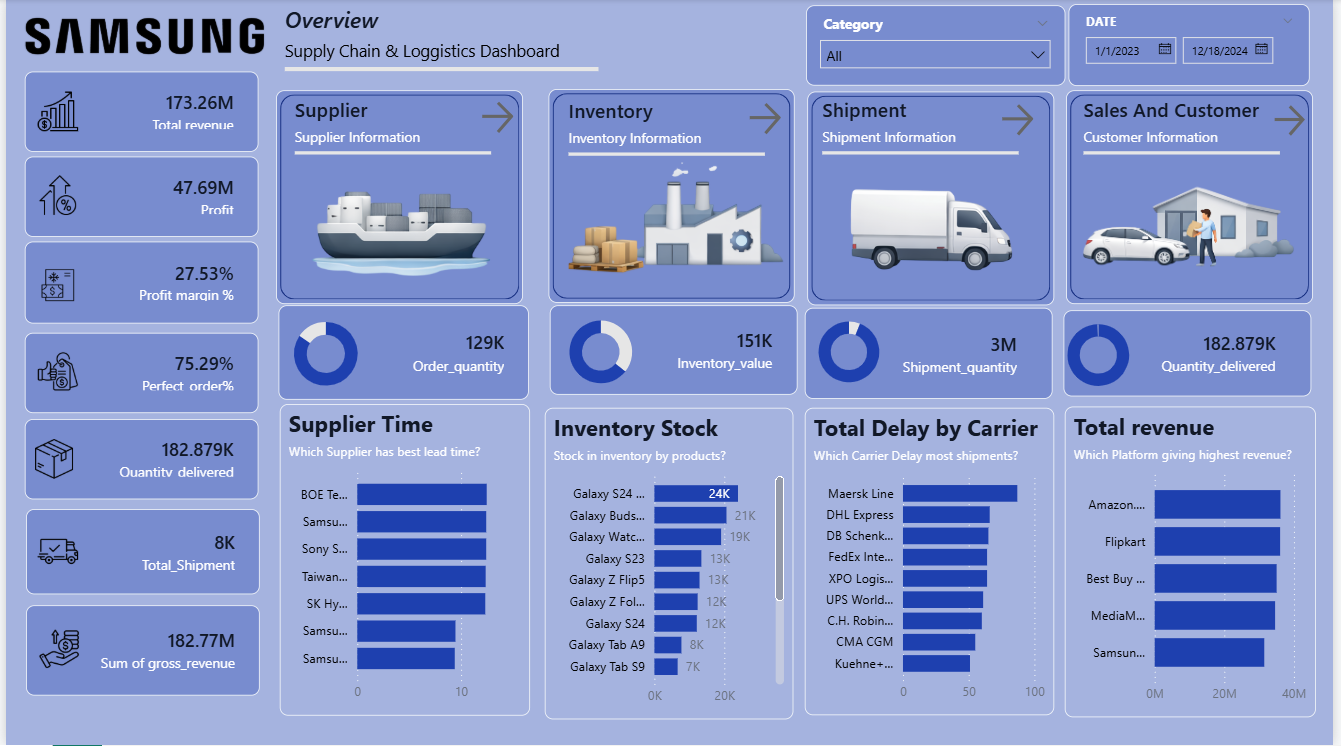

What the dashboard file says about the page in this screenshot:
{"tool":"powerbi","page":{"name":"Page 1","canvas":[1280,720],"ordinal":0},"visuals":[{"type":"shape","box":[260.7,87.8,238.8,206],"z":0},{"type":"actionButton","box":[955.7,96.9,42.8,40.4],"z":0,"group":"g4"},{"type":"shape","box":[1023.5,88,238.5,206],"z":1000},{"type":"actionButton","box":[1218.6,98.2,42.8,39.1],"z":1000,"group":"g4"},{"type":"shape","box":[524,86.5,237.5,206.5],"z":2000},{"type":"shape","title":"Shipment","box":[788.2,94.5,189.5,56.3],"z":2000,"group":"g4"},{"type":"shape","title":"Sales And Customer","box":[1040.1,94.5,189.5,56.3],"z":3000,"group":"g4"},{"type":"image","box":[1030.3,153.2,231.6,126.7],"z":3000},{"type":"cardVisual","fields":{"Data":["Folder.total revenue"]},"box":[18.6,69.9,225.3,77.7],"z":4000},{"type":"group","id":"g1","title":"Group 6","box":[278.8,94.5,482.5,57.5],"z":4000,"group":"g4"},{"type":"shape","box":[772.8,89.3,238.5,206],"z":5000},{"type":"actionButton","box":[453.7,94.5,48.9,40.4],"z":5000,"group":"g3"},{"type":"actionButton","box":[712.4,95.7,48.9,40.4],"z":6000,"group":"g1"},{"type":"image","box":[276.3,159.3,201.5,114.6],"z":6000},{"type":"cardVisual","fields":{"Data":["Folder.Profit"]},"box":[18.6,152.3,225.3,77.7],"z":7000},{"type":"image","box":[492.2,132.7,293.2,149.6],"z":8000},{"type":"shape","title":"Overview","box":[269,4.8,302.8,65.1],"z":9000,"group":"g2"},{"type":"shape","title":"Supplier","box":[278.8,94.5,189.5,56.3],"z":9000,"group":"g3"},{"type":"image","box":[795,159.3,191.8,113.4],"z":9000},{"type":"shape","title":"Inventory","box":[543.6,95.7,189.5,56.3],"z":10000,"group":"g1"},{"type":"cardVisual","fields":{"Data":["Folder.Profit margin %"]},"box":[18.6,234.6,225.3,79.2],"z":10000},{"type":"cardVisual","fields":{"Data":["Folder.Perfect_order%"]},"box":[18.6,321.6,225.3,77.7],"z":11000},{"type":"group","id":"g2","title":"Group 5","box":[269,4.8,302.8,65.1],"z":12000},{"type":"group","id":"g3","title":"Group 5","box":[278.8,94.5,223.8,56.3],"z":12001,"group":"g1"},{"type":"group","id":"g4","title":"Group 8","box":[278.8,94.5,982.6,57.5],"z":12004,"group":"g5"},{"type":"cardVisual","fields":{"Data":["Folder.Quantity_delivered"]},"box":[18.6,405.5,225.3,77.7],"z":13000},{"type":"group","id":"g5","title":"Group 7","box":[278.8,94.5,982.6,57.5],"z":14000},{"type":"cardVisual","fields":{"Data":["Folder.Total_Shipment"]},"box":[19.3,492.2,225.6,82],"z":15000},{"type":"image","box":[0,0,257,70],"z":16000},{"type":"cardVisual","fields":{"Data":["Sum(fact_sales.gross_revenue)"]},"box":[19.3,585.1,225.6,86.9],"z":17000},{"type":"cardVisual","fields":{"Data":["Folder.Order_qty"]},"box":[263,295.6,241.3,91],"z":18000,"group":"g6"},{"type":"clusteredBarChart","title":"Supplier Time","fields":{"Category":["dim_supplier.supplier_name"],"Y":["Folder.Avg_lead_time"]},"box":[264.2,390.9,241.3,300.4],"z":18000},{"type":"cardVisual","fields":{"Data":["Folder.inventory_value"]},"box":[524.8,295.6,238.9,86.5],"z":19000,"group":"g7"},{"type":"clusteredBarChart","title":"Inventory Stock","fields":{"Category":["dim_product.product_name"],"Y":["Folder.Inventory_value"]},"box":[520,394.5,240.1,300.4],"z":19000},{"type":"cardVisual","fields":{"Data":["Folder.Shipment_quantity"]},"box":[771.1,298,238.9,88.1],"z":20000,"group":"g8"},{"type":"clusteredBarChart","title":"Total Delay by Carrier","fields":{"Category":["fact_shipment.carrier"],"Y":["Folder.Total_Delay"]},"box":[770.7,394.7,240.8,296.8],"z":20000},{"type":"cardVisual","fields":{"Data":["Folder.Total_sales_delivered"]},"box":[1021.3,300.9,238.9,82.9],"z":21000,"group":"g9"},{"type":"clusteredBarChart","title":"Total revenue ","fields":{"Category":["dim_customer.customer_name"],"Y":["Folder.Total revenue"]},"box":[1022.4,393.1,242.4,299.9],"z":21000},{"type":"group","id":"g6","title":"Group 1","box":[263,295.6,241.3,92.2],"z":22000},{"type":"group","id":"g7","title":"Group 2","box":[524.8,295.6,238.9,88.6],"z":23000},{"type":"group","id":"g8","title":"Group 3","box":[766,298,243.9,88.1],"z":24000},{"type":"group","id":"g9","title":"Group 4","box":[1011.3,300.9,248.8,85.7],"z":25000},{"type":"image","box":[7.4,89.3,85.7,38.6],"z":26000},{"type":"donutChart","fields":{"Y":["Folder.Safty_stock","Folder.Inventory_value"]},"box":[529.9,298.5,89.3,85.7],"z":26000,"group":"g7"},{"type":"image","box":[7.4,170.1,85.7,38.6],"z":27000},{"type":"donutChart","fields":{"Y":["Folder.Order_qty","Folder.defected"]},"box":[265.4,298.5,86.9,89.3],"z":27000,"group":"g6"},{"type":"image","box":[7.4,257,85.7,38.6],"z":28000},{"type":"donutChart","fields":{"Y":["Folder.Total_Quantity","Folder.Shipment_quantity"]},"box":[766,299.3,95.3,83.2],"z":28000,"group":"g8"},{"type":"donutChart","fields":{"Y":["Folder.Total_quantity_delivered","Folder.Total_Delay"]},"box":[1011.3,302.1,86.9,84.5],"z":29000,"group":"g9"},{"type":"image","box":[7.4,340.2,85.7,38.6],"z":29000},{"type":"image","box":[3.6,424.7,85.7,38.6],"z":30000},{"type":"image","box":[7.4,513.9,85.7,38.6],"z":31000},{"type":"image","box":[8.4,608,85.7,38.6],"z":32000},{"type":"slicer","fields":{"Values":["dim_date.date"]},"box":[1025.5,4.7,233.1,79.2],"z":33000},{"type":"slicer","fields":{"Values":["dim_product.category"]},"box":[772.2,6.2,250.2,77.7],"z":34000}]}

Visuals, with their boxes in screenshot pixels (x1, y1, x2, y2), scaled from the page's 1280x720 canvas onto the 1341x746 screenshot:
shape: {"x1": 273, "y1": 91, "x2": 523, "y2": 304}
actionButton: {"x1": 1001, "y1": 100, "x2": 1046, "y2": 142}
shape: {"x1": 1072, "y1": 91, "x2": 1322, "y2": 305}
actionButton: {"x1": 1277, "y1": 102, "x2": 1322, "y2": 142}
shape: {"x1": 549, "y1": 90, "x2": 798, "y2": 304}
"Shipment" shape: {"x1": 826, "y1": 98, "x2": 1024, "y2": 156}
"Sales And Customer" shape: {"x1": 1090, "y1": 98, "x2": 1288, "y2": 156}
image: {"x1": 1079, "y1": 159, "x2": 1322, "y2": 290}
cardVisual - Folder.total revenue: {"x1": 19, "y1": 72, "x2": 256, "y2": 153}
"Group 6" group: {"x1": 292, "y1": 98, "x2": 798, "y2": 157}
shape: {"x1": 810, "y1": 93, "x2": 1059, "y2": 306}
actionButton: {"x1": 475, "y1": 98, "x2": 527, "y2": 140}
actionButton: {"x1": 746, "y1": 99, "x2": 798, "y2": 141}
image: {"x1": 289, "y1": 165, "x2": 501, "y2": 284}
cardVisual - Folder.Profit: {"x1": 19, "y1": 158, "x2": 256, "y2": 238}
image: {"x1": 516, "y1": 137, "x2": 823, "y2": 292}
"Overview" shape: {"x1": 282, "y1": 5, "x2": 599, "y2": 72}
"Supplier" shape: {"x1": 292, "y1": 98, "x2": 491, "y2": 156}
image: {"x1": 833, "y1": 165, "x2": 1034, "y2": 283}
"Inventory" shape: {"x1": 570, "y1": 99, "x2": 768, "y2": 157}
cardVisual - Folder.Profit margin %: {"x1": 19, "y1": 243, "x2": 256, "y2": 325}
cardVisual - Folder.Perfect_order%: {"x1": 19, "y1": 333, "x2": 256, "y2": 414}
"Group 5" group: {"x1": 282, "y1": 5, "x2": 599, "y2": 72}
"Group 5" group: {"x1": 292, "y1": 98, "x2": 527, "y2": 156}
"Group 8" group: {"x1": 292, "y1": 98, "x2": 1322, "y2": 157}
cardVisual - Folder.Quantity_delivered: {"x1": 19, "y1": 420, "x2": 256, "y2": 501}
"Group 7" group: {"x1": 292, "y1": 98, "x2": 1322, "y2": 157}
cardVisual - Folder.Total_Shipment: {"x1": 20, "y1": 510, "x2": 257, "y2": 595}
image: {"x1": 0, "y1": 0, "x2": 269, "y2": 73}
cardVisual - Sum(fact_sales.gross_revenue): {"x1": 20, "y1": 606, "x2": 257, "y2": 696}
cardVisual - Folder.Order_qty: {"x1": 276, "y1": 306, "x2": 528, "y2": 401}
"Supplier Time" clusteredBarChart: {"x1": 277, "y1": 405, "x2": 530, "y2": 716}
cardVisual - Folder.inventory_value: {"x1": 550, "y1": 306, "x2": 800, "y2": 396}
"Inventory Stock" clusteredBarChart: {"x1": 545, "y1": 409, "x2": 796, "y2": 720}
cardVisual - Folder.Shipment_quantity: {"x1": 808, "y1": 309, "x2": 1058, "y2": 400}
"Total Delay by Carrier" clusteredBarChart: {"x1": 807, "y1": 409, "x2": 1060, "y2": 716}
cardVisual - Folder.Total_sales_delivered: {"x1": 1070, "y1": 312, "x2": 1320, "y2": 398}
"Total revenue " clusteredBarChart: {"x1": 1071, "y1": 407, "x2": 1325, "y2": 718}
"Group 1" group: {"x1": 276, "y1": 306, "x2": 528, "y2": 402}
"Group 2" group: {"x1": 550, "y1": 306, "x2": 800, "y2": 398}
"Group 3" group: {"x1": 803, "y1": 309, "x2": 1058, "y2": 400}
"Group 4" group: {"x1": 1059, "y1": 312, "x2": 1320, "y2": 401}
image: {"x1": 8, "y1": 93, "x2": 98, "y2": 133}
donutChart - Folder.Safty_stock x Folder.Inventory_value: {"x1": 555, "y1": 309, "x2": 649, "y2": 398}
image: {"x1": 8, "y1": 176, "x2": 98, "y2": 216}
donutChart - Folder.Order_qty x Folder.defected: {"x1": 278, "y1": 309, "x2": 369, "y2": 402}
image: {"x1": 8, "y1": 266, "x2": 98, "y2": 306}
donutChart - Folder.Total_Quantity x Folder.Shipment_quantity: {"x1": 803, "y1": 310, "x2": 902, "y2": 396}
donutChart - Folder.Total_quantity_delivered x Folder.Total_Delay: {"x1": 1059, "y1": 313, "x2": 1151, "y2": 401}
image: {"x1": 8, "y1": 352, "x2": 98, "y2": 392}
image: {"x1": 4, "y1": 440, "x2": 94, "y2": 480}
image: {"x1": 8, "y1": 532, "x2": 98, "y2": 572}
image: {"x1": 9, "y1": 630, "x2": 99, "y2": 670}
slicer - dim_date.date: {"x1": 1074, "y1": 5, "x2": 1319, "y2": 87}
slicer - dim_product.category: {"x1": 809, "y1": 6, "x2": 1071, "y2": 87}
